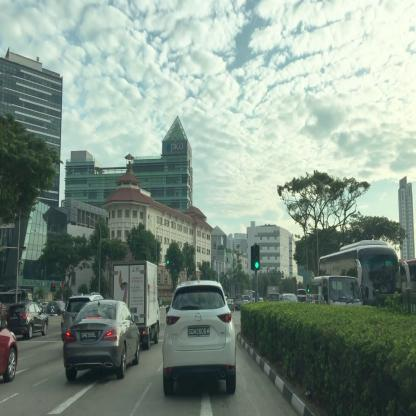green_traffic_light: (254, 244, 259, 269)
